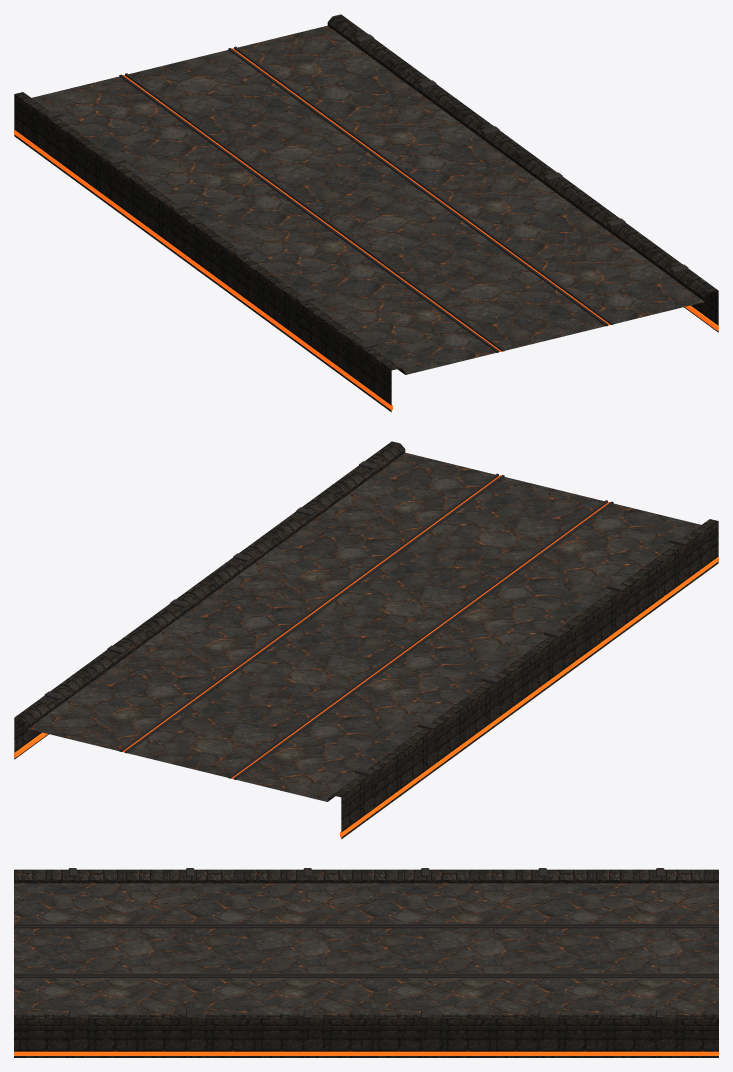
Rendered from ember_forge_segment.glb.
3 views of the same model, one above another, from view 1: azimuth 30°, elevation 25°; view 2: azimuth 150°, elevation 25°; view 3: azimuth 270°, elevation 25° (orthographic). The views are drawn at different scales.
Parts seen in each view (by area): view 1: ember_forge_floor, ember_forge_segment_trim; view 2: ember_forge_floor, ember_forge_segment_trim; view 3: ember_forge_floor, ember_forge_segment_trim.
Part boxes in pixels (x1,y1,x2,y2): ember_forge_floor: [14, 14, 718, 412]; ember_forge_segment_trim: [14, 34, 718, 410]; ember_forge_floor: [14, 441, 718, 839]; ember_forge_segment_trim: [14, 461, 718, 837]; ember_forge_floor: [14, 869, 718, 1057]; ember_forge_segment_trim: [14, 868, 718, 1055].
Bounding box in the file's own units: 6.01 × 0.78 × 12.
Materials: 5 (2 with a texture image).
